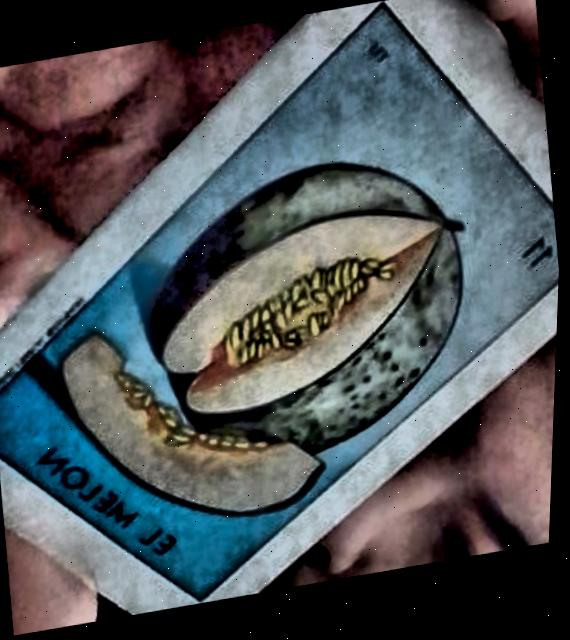El Melon: (0, 7, 561, 603)
